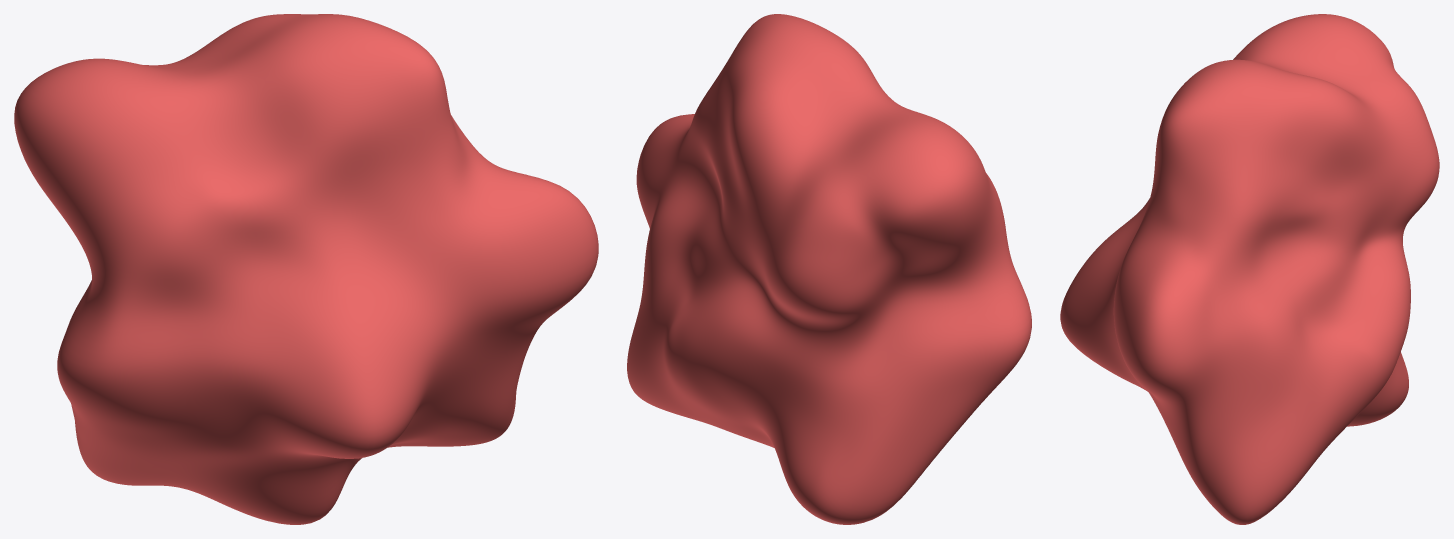
Rendered from LigaseIVmodel.fbx.
3 views of the same model, side by side, from view 1: azimuth 30°, elevation 25°; view 2: azimuth 150°, elevation 25°; view 3: azimuth 270°, elevation 25° (orthographic). The views are drawn at different scales.
Visible parts, largest first — view 1: Surface; view 2: Surface; view 3: Surface.
Boxes of the visible parts, x1,y1,x2,y2 form: Surface: (14,14,598,524); Surface: (627,14,1031,524); Surface: (1060,14,1439,524).
Size of the model in its own units: 466 by 451 by 371.
